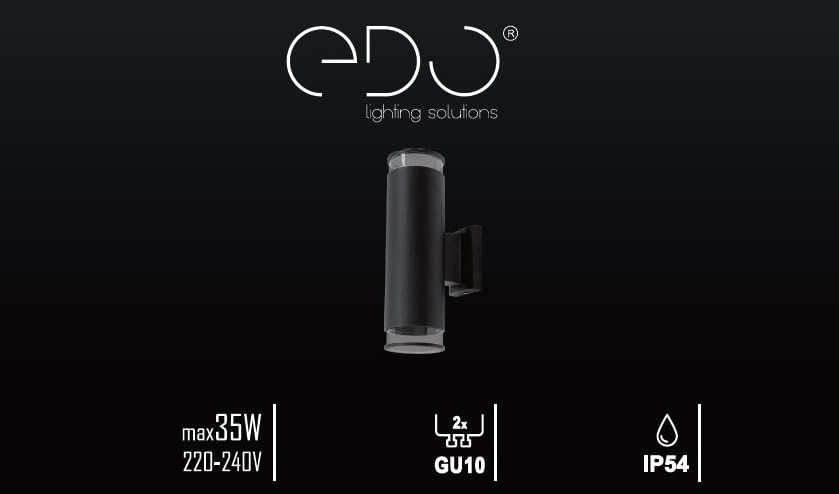IP54: (644, 455, 689, 472)
l: (385, 329, 445, 354)
lighting: (366, 104, 421, 122)
solutions: (429, 106, 497, 119)
